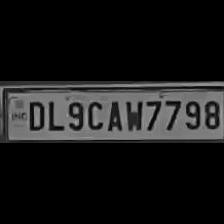7: (160, 97, 180, 131), (142, 97, 162, 130)
8: (202, 98, 220, 130)
9: (64, 98, 84, 130), (182, 97, 200, 131)
A: (104, 98, 124, 132)
C: (85, 97, 105, 130)
D: (23, 97, 44, 130)
L: (44, 97, 62, 131)
W: (123, 98, 143, 132)
